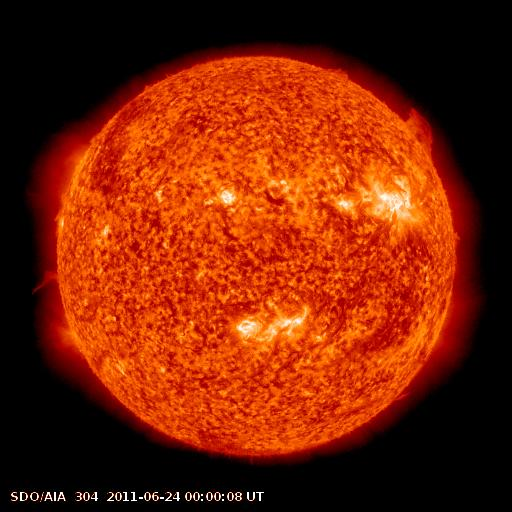prominence: (401, 97, 439, 162), (30, 266, 70, 298)
